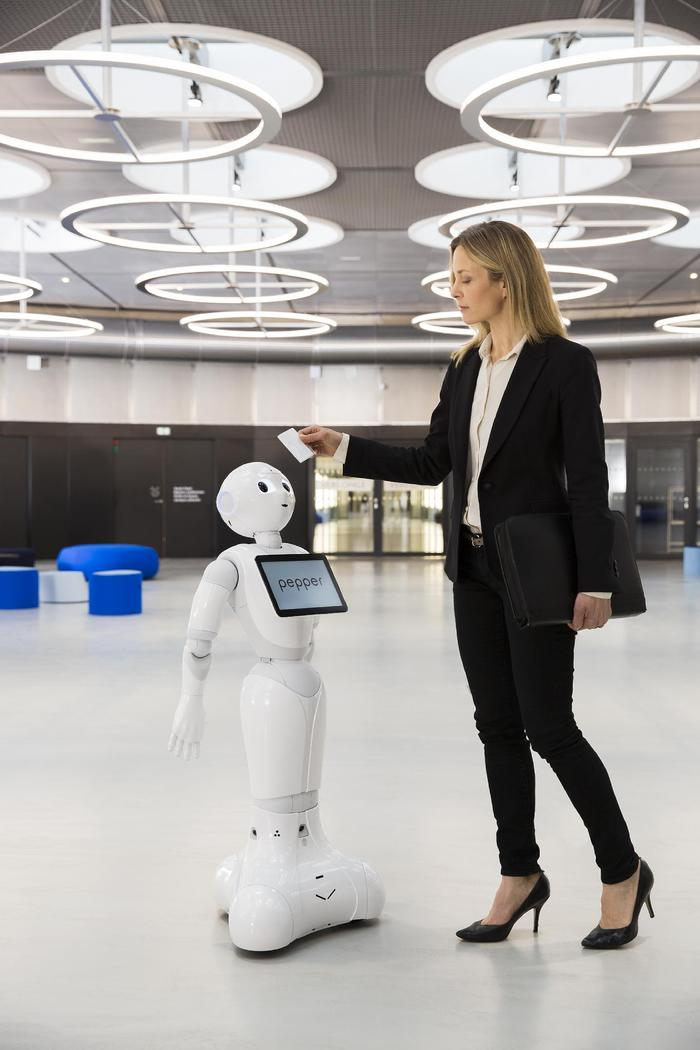person: (280, 213, 666, 956)
person-like: (163, 455, 392, 963)
